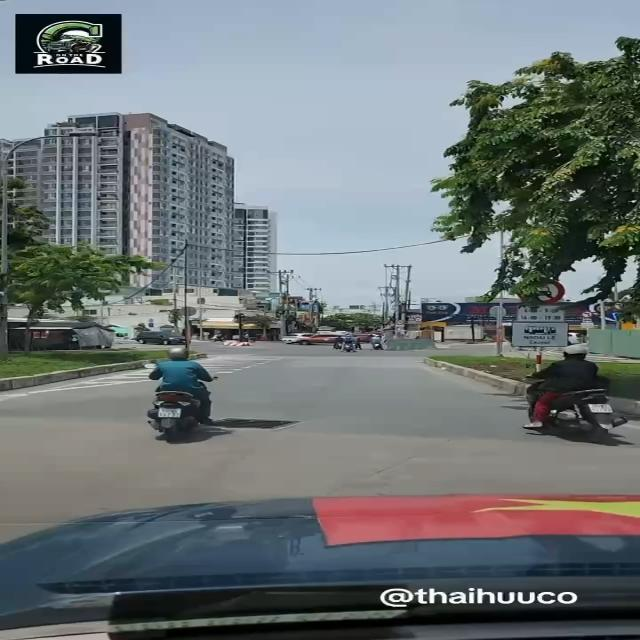103a-cam-oto: (518, 277, 564, 303)
